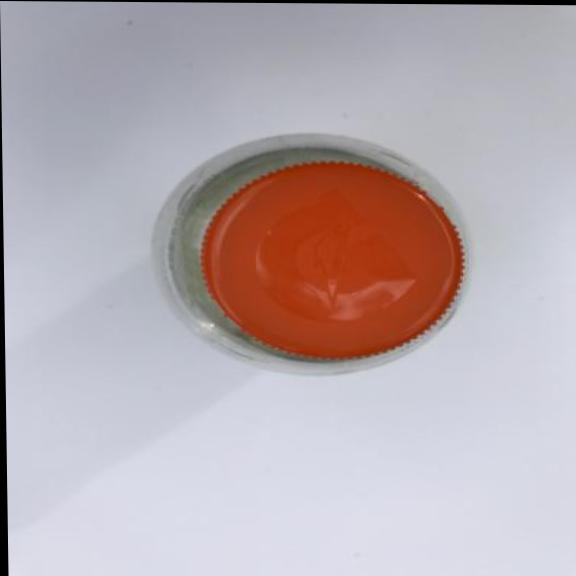Plastik: (136, 121, 485, 382)
